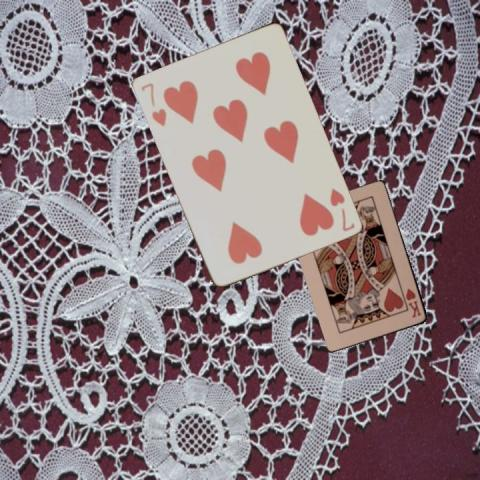7h: (137, 79, 168, 128), (326, 184, 356, 232)
Kh: (403, 286, 423, 320)
